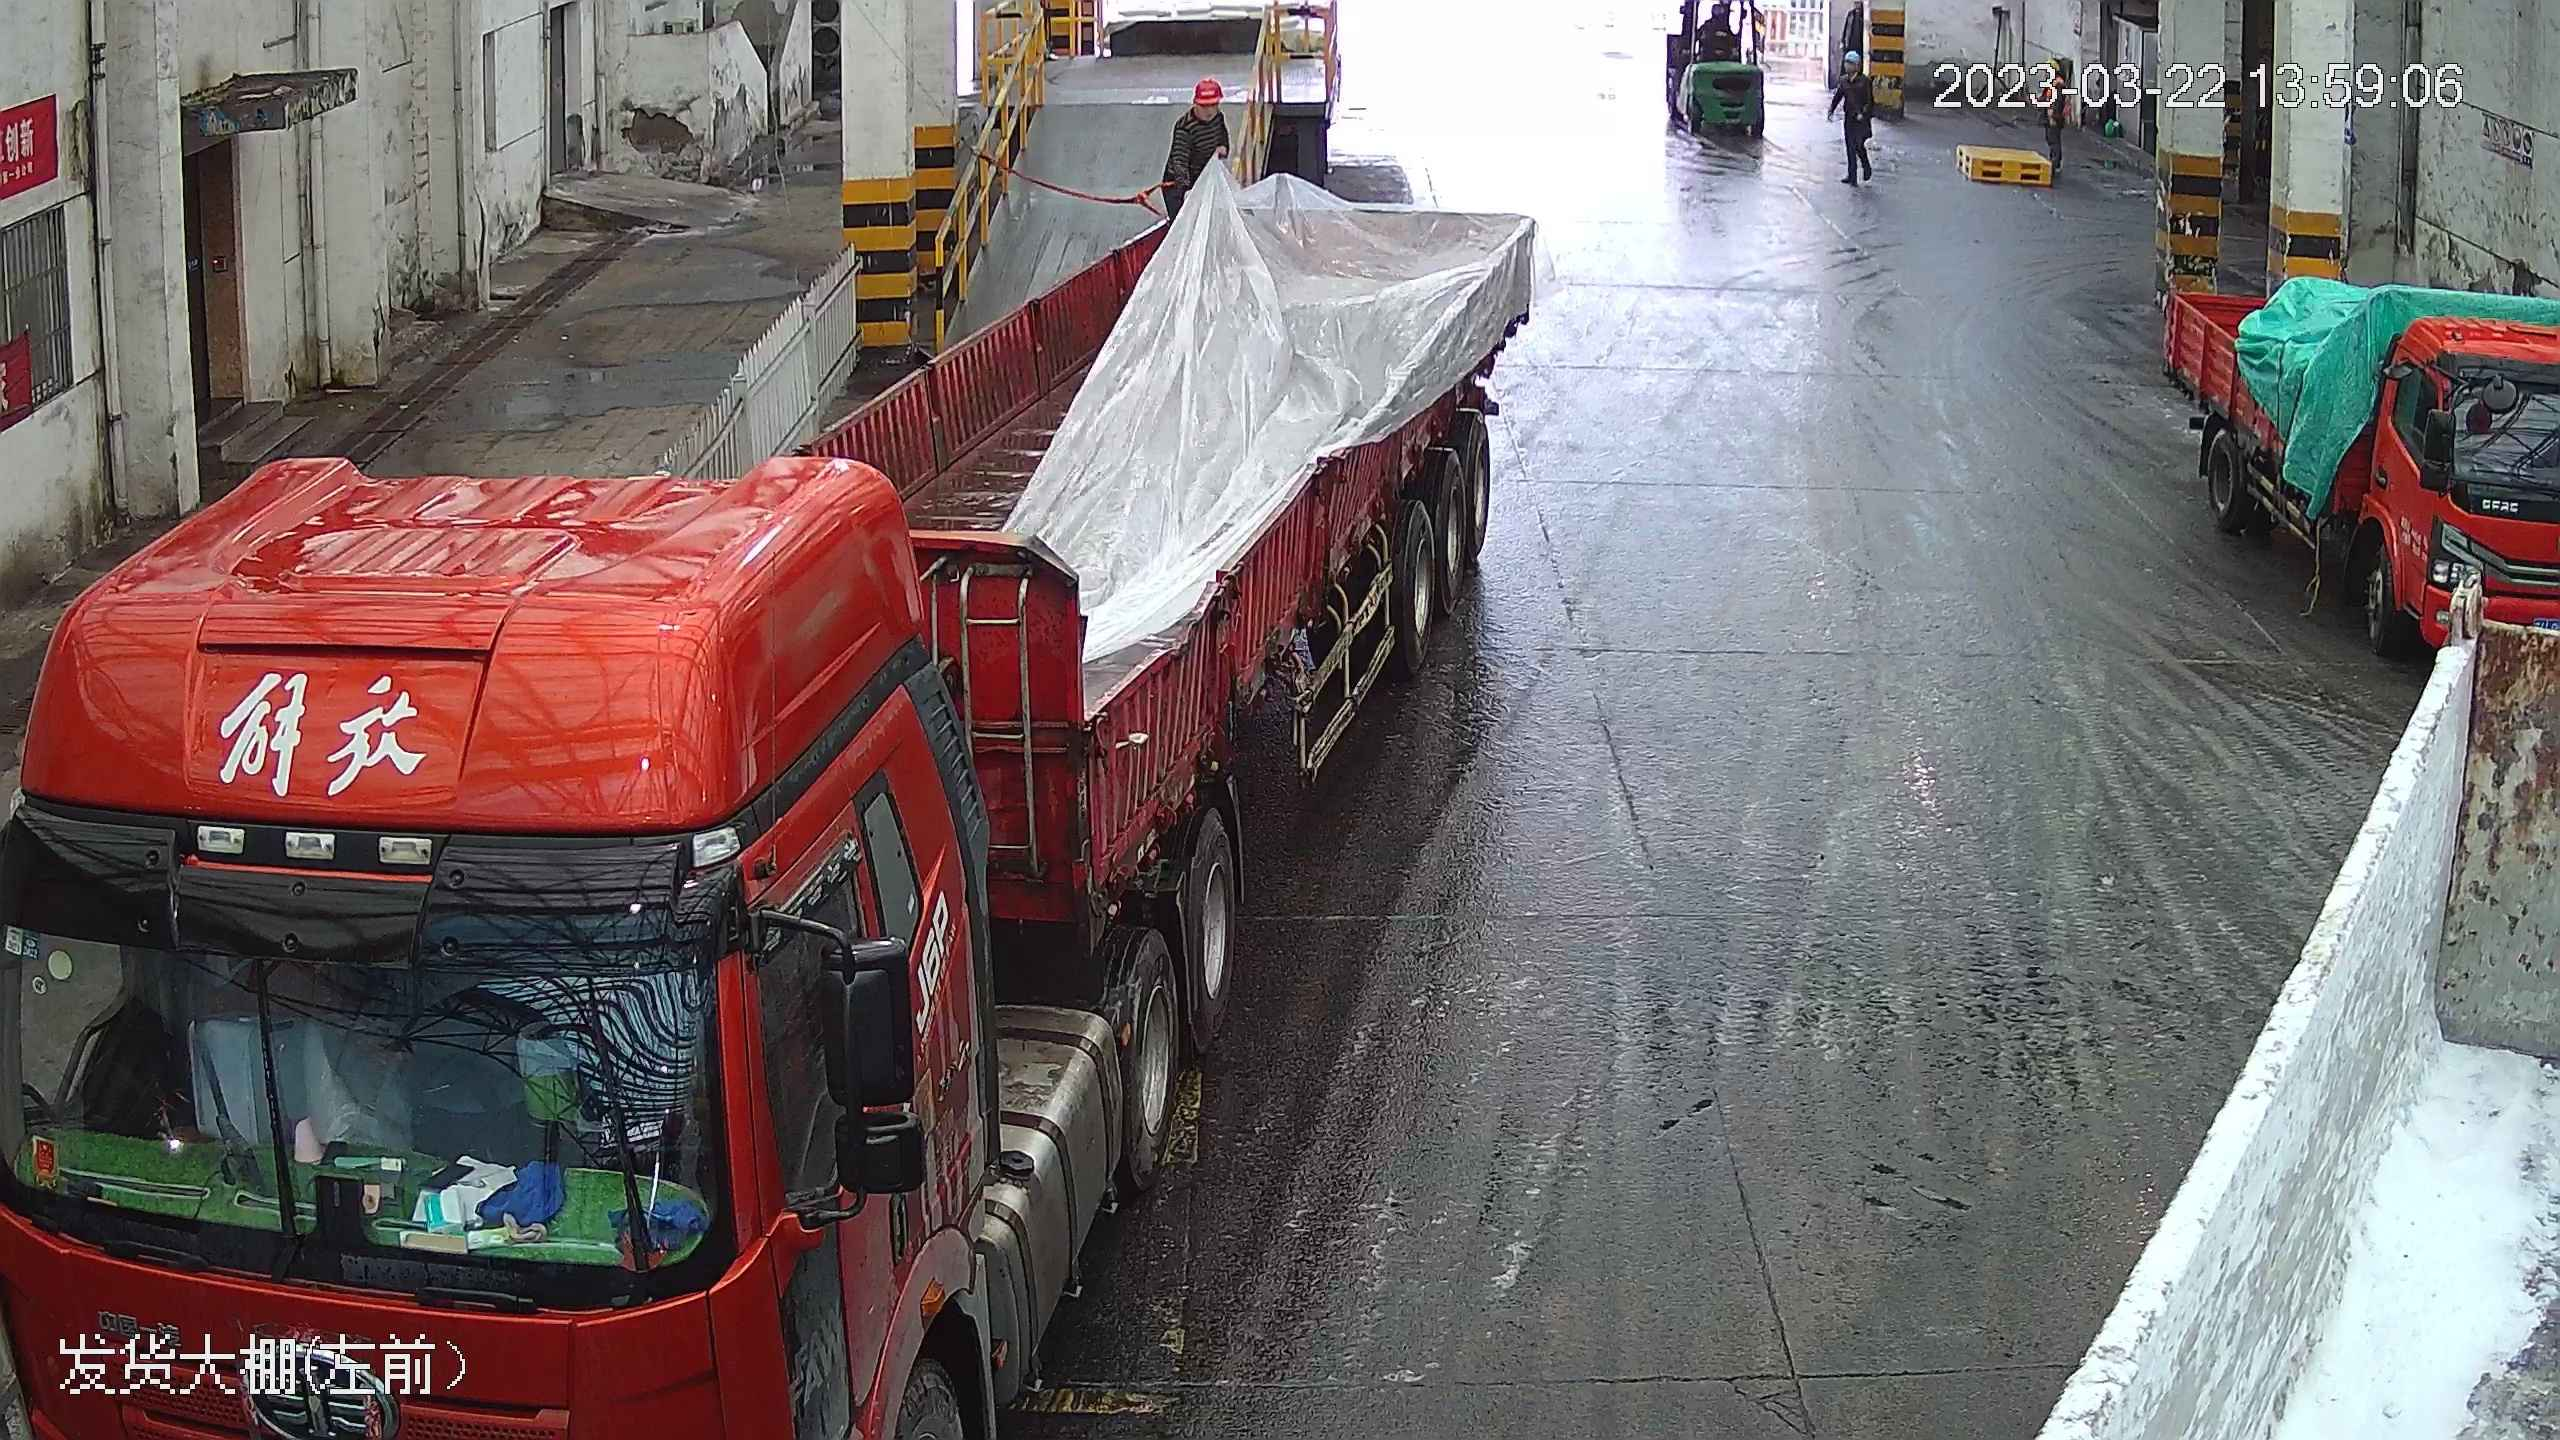belt: (1137, 171, 1170, 221)
head: (1173, 73, 1227, 139), (1836, 50, 1871, 94)
helmet: (1187, 73, 1225, 101), (1842, 52, 1862, 66)
people: (1164, 72, 1235, 189), (1829, 45, 1878, 190)
truck: (37, 30, 1535, 1440), (2159, 279, 2560, 676)
